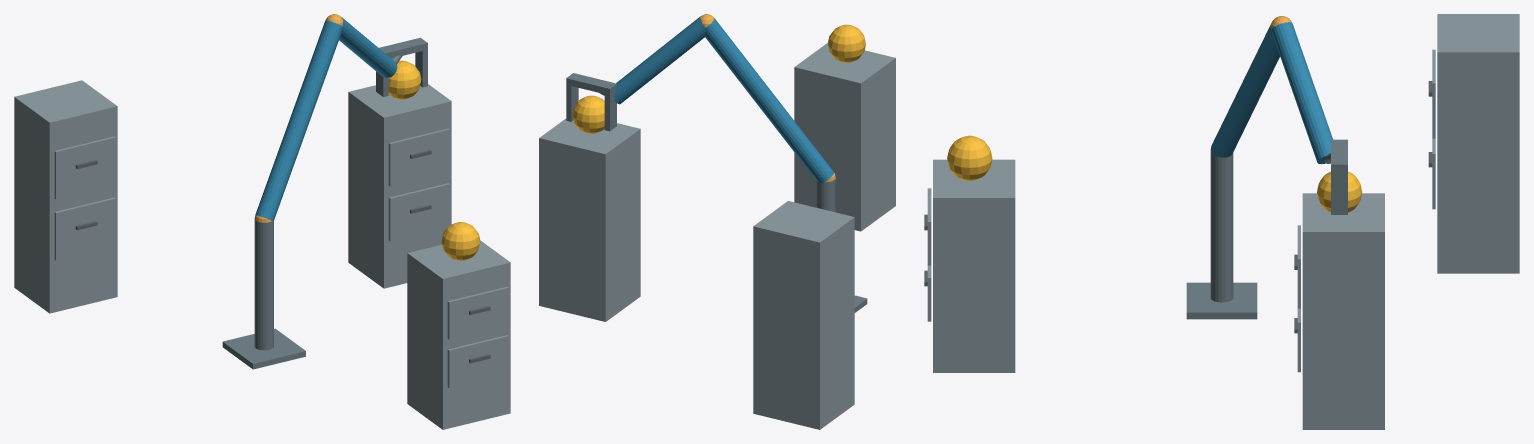
3 views of the same model, side by side, from view 1: azimuth 30°, elevation 25°; view 2: azimuth 150°, elevation 25°; view 3: azimuth 270°, elevation 25° (orthographic). The views are drawn at different scales.
Parts seen in each view (by area): view 1: cabinet_3 body, cabinet_1 body, cabinet_2 body, moving link 1, cabinet_3 drawer front.001, cabinet_3 drawer front, cabinet_2 drawer front.001, cabinet_2 drawer front, fixed post, cabinet_1 drawer front.001, cabinet_1 drawer front, pedestal (+4 smaller); view 2: cabinet_3 body, cabinet_2 body, cabinet_1 body, moving link 1, moving link 2, released ball_1, ball ball_2, gripper bridge, fixed post, gripper finger -1, gripper finger 1; view 3: cabinet_3 body, cabinet_2 body, cabinet_1 body, fixed post, moving link 2, moving link 1, pedestal, released ball_1, ball ball_2, gripper finger 1, gripper bridge.
Boxes of the visible parts, <box> form: cabinet_3 body: <box>14,80,117,313</box>; cabinet_1 body: <box>407,240,510,429</box>; cabinet_2 body: <box>348,84,451,288</box>; moving link 1: <box>255,20,342,220</box>; cabinet_3 drawer front.001: <box>54,136,115,199</box>; cabinet_3 drawer front: <box>54,197,115,260</box>; cabinet_2 drawer front.001: <box>388,128,449,186</box>; cabinet_2 drawer front: <box>388,183,449,241</box>; fixed post: <box>254,220,273,350</box>; cabinet_1 drawer front.001: <box>447,286,508,339</box>; cabinet_1 drawer front: <box>447,335,508,388</box>; pedestal: <box>222,328,305,369</box>; cabinet_3 body: <box>753,201,854,429</box>; cabinet_2 body: <box>539,118,640,321</box>; cabinet_1 body: <box>794,43,895,231</box>; moving link 1: <box>705,18,833,182</box>; moving link 2: <box>614,17,705,104</box>; released ball_1: <box>828,24,865,62</box>; ball ball_2: <box>572,95,604,133</box>; gripper bridge: <box>566,73,616,95</box>; fixed post: <box>816,179,835,212</box>; gripper finger -1: <box>604,92,616,131</box>; gripper finger 1: <box>566,85,578,121</box>; cabinet_3 body: <box>1437,14,1519,273</box>; cabinet_2 body: <box>1302,193,1384,429</box>; cabinet_1 body: <box>933,159,1015,372</box>; fixed post: <box>1210,150,1233,302</box>; moving link 2: <box>1271,22,1332,164</box>; moving link 1: <box>1211,21,1279,157</box>; pedestal: <box>1186,282,1257,319</box>; released ball_1: <box>947,135,992,180</box>; ball ball_2: <box>1317,171,1362,212</box>; gripper finger 1: <box>1331,172,1347,214</box>; gripper bridge: <box>1331,139,1347,172</box>.
Size of the model in its own units: 1.62 by 1.33 by 2.1.
